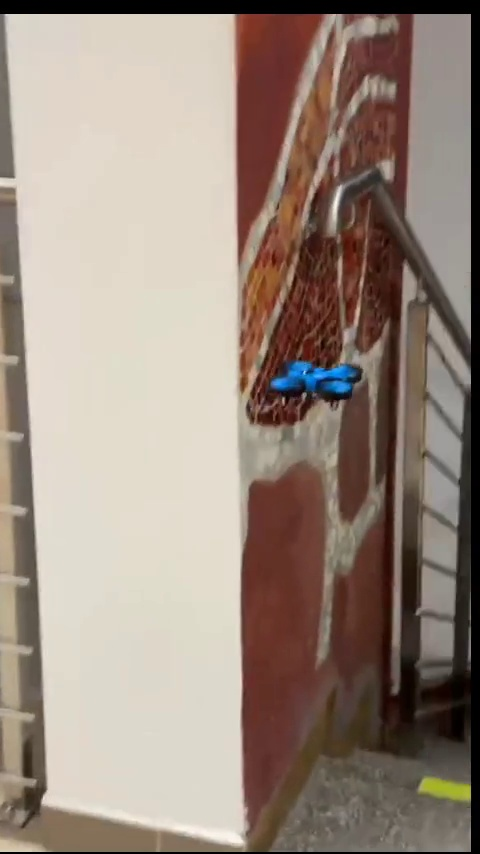drone: (271, 357, 360, 408)
